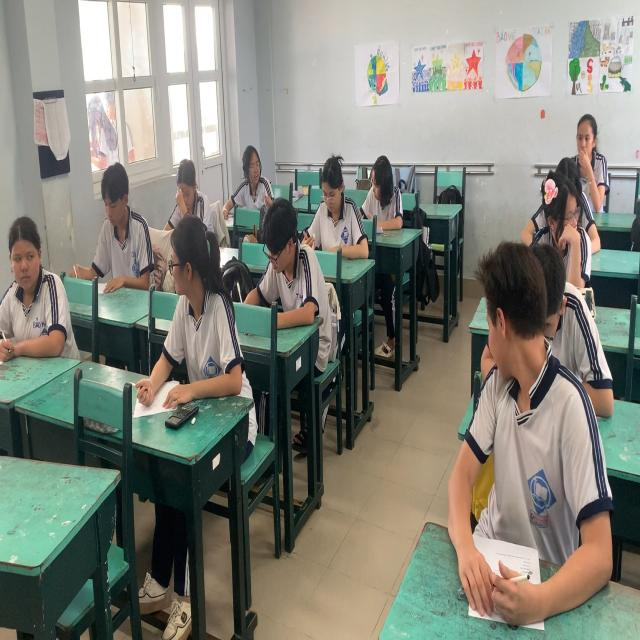cheating: (434, 257, 600, 579), (153, 212, 231, 395), (4, 192, 64, 358), (534, 185, 586, 278), (231, 146, 276, 202), (366, 157, 398, 226)
not_cheating: (244, 192, 313, 323), (93, 153, 144, 299), (305, 161, 361, 261), (169, 153, 215, 219), (564, 100, 600, 180)
